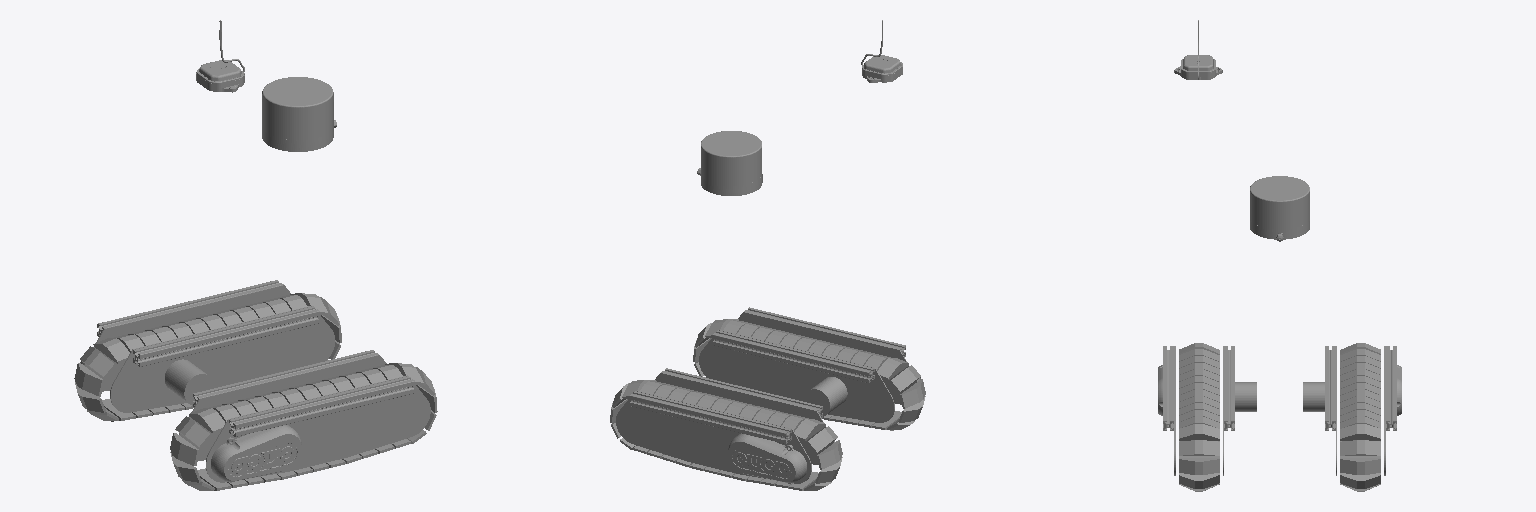
The robot description file, URDF, robot "robot":
<?xml version="1.0" ?>
<!-- =================================================================================== -->
<!-- |    This document was autogenerated by xacro from src/dragon/dragon_description/urdf/robot.xacro | -->
<!-- |    EDITING THIS FILE BY HAND IS NOT RECOMMENDED                                 | -->
<!-- =================================================================================== -->
<robot name="robot">
  <material name="silver_default">
    <color rgba="0.700 0.700 0.700 1.000"/>
  </material>
  <material name="_">
    <color rgba="0.6274509803921569 0.6274509803921569 0.6274509803921569 1.0"/>
  </material>
  <material name="opaque210210255">
    <color rgba="0.8235294117647058 0.8235294117647058 1.0 1.0"/>
  </material>
  <material name="opaque191191191">
    <color rgba="0.7490196078431373 0.7490196078431373 0.7490196078431373 1.0"/>
  </material>
  <link name="base_link"/>
  <joint name="cugo_v3_left_joint" type="fixed">
    <parent link="base_link"/>
    <child link="cugo_v3_left_link"/>
    <origin rpy="0 0 0" xyz="0 -0.0385 0"/>
    <axis xyz="0 1 0"/>
  </joint>
  <link name="cugo_v3_left_link">
    <visual>
      <geometry>
        <mesh filename="package://dragon_description/stl/cugo_v3_left.stl" scale="0.001 0.001 0.001"/>
      </geometry>
      <material name="_"/>
    </visual>
  </link>
  <joint name="cugo_v3_right_joint" type="fixed">
    <parent link="base_link"/>
    <child link="cugo_v3_right_link"/>
    <origin rpy="0 0 0" xyz="0 0.0385 0"/>
    <axis xyz="0 1 0"/>
  </joint>
  <link name="cugo_v3_right_link">
    <visual>
      <geometry>
        <mesh filename="package://dragon_description/stl/cugo_v3_right.stl" scale="0.001 0.001 0.001"/>
      </geometry>
      <material name="_"/>
    </visual>
  </link>
  <joint name="upper_frame_joint" type="fixed">
    <parent link="base_link"/>
    <child link="upper_frame_link"/>
    <origin rpy="0 0 0" xyz="0.073 0 0.069"/>
    <axis xyz="0 1 0"/>
  </joint>
  <link name="upper_frame_link">
    <visual>
      <geometry>
        <mesh filename="package://dragon_description/stl/upper_frame.stl" scale="0.001 0.001 0.001"/>
      </geometry>
      <material name="_"/>
    </visual>
  </link>
  <joint name="velodyne_joint" type="fixed">
    <parent link="base_link"/>
    <child link="velodyne"/>
    <origin rpy="0 0 0" xyz="0.142898 0 0.386"/>
    <axis xyz="0 1 0"/>
  </joint>
  <link name="velodyne">
    <visual>
      <geometry>
        <mesh filename="package://dragon_description/stl/velodyne.stl" scale="0.001 0.001 0.001"/>
      </geometry>
      <material name="_"/>
    </visual>
  </link>
  <joint name="gnss_joint" type="fixed">
    <parent link="base_link"/>
    <child link="gnss_link"/>
    <origin rpy="0 0 0" xyz="-0.067 -0.139 0.579"/>
    <axis xyz="0 1 0"/>
  </joint>
  <link name="gnss_link">
    <visual>
      <geometry>
        <mesh filename="package://dragon_description/stl/gnss.stl" scale="0.001 0.001 0.001"/>
      </geometry>
      <material name="_"/>
    </visual>
  </link>
</robot>

--- What the picture shows (computed from the rendered views, not written in the file) ---
3 views of the same robot in one strip: view 1: azimuth 30°, elevation 25°; view 2: azimuth 150°, elevation 25°; view 3: azimuth 270°, elevation 25° (orthographic).
Robot: robot — 6 links, 5 joints (5 fixed); root link base_link; default pose: every joint at zero.
Links seen in each view (by area): view 1: cugo_v3_left_link, cugo_v3_right_link, velodyne, gnss_link; view 2: cugo_v3_right_link, cugo_v3_left_link, velodyne, gnss_link; view 3: cugo_v3_left_link, cugo_v3_right_link, velodyne, gnss_link.
Boxes of the visible links, x1,y1,x2,y2 form: cugo_v3_left_link: [170, 350, 437, 490]; cugo_v3_right_link: [74, 280, 341, 421]; velodyne: [262, 77, 336, 151]; gnss_link: [196, 20, 244, 92]; cugo_v3_right_link: [610, 368, 842, 490]; cugo_v3_left_link: [693, 307, 925, 430]; velodyne: [697, 131, 762, 195]; gnss_link: [861, 20, 902, 82]; cugo_v3_left_link: [1158, 343, 1256, 491]; cugo_v3_right_link: [1303, 343, 1401, 491]; velodyne: [1250, 176, 1309, 241]; gnss_link: [1174, 20, 1222, 79].
Bounding box of the posed robot: 0.4301 × 0.416 × 0.7498 m (x, y, z).
Meshes: 5 distinct files referenced, 4 mesh visuals loaded (4 binary STL); not drawn: 1 (reference not matched to a file when rendering).